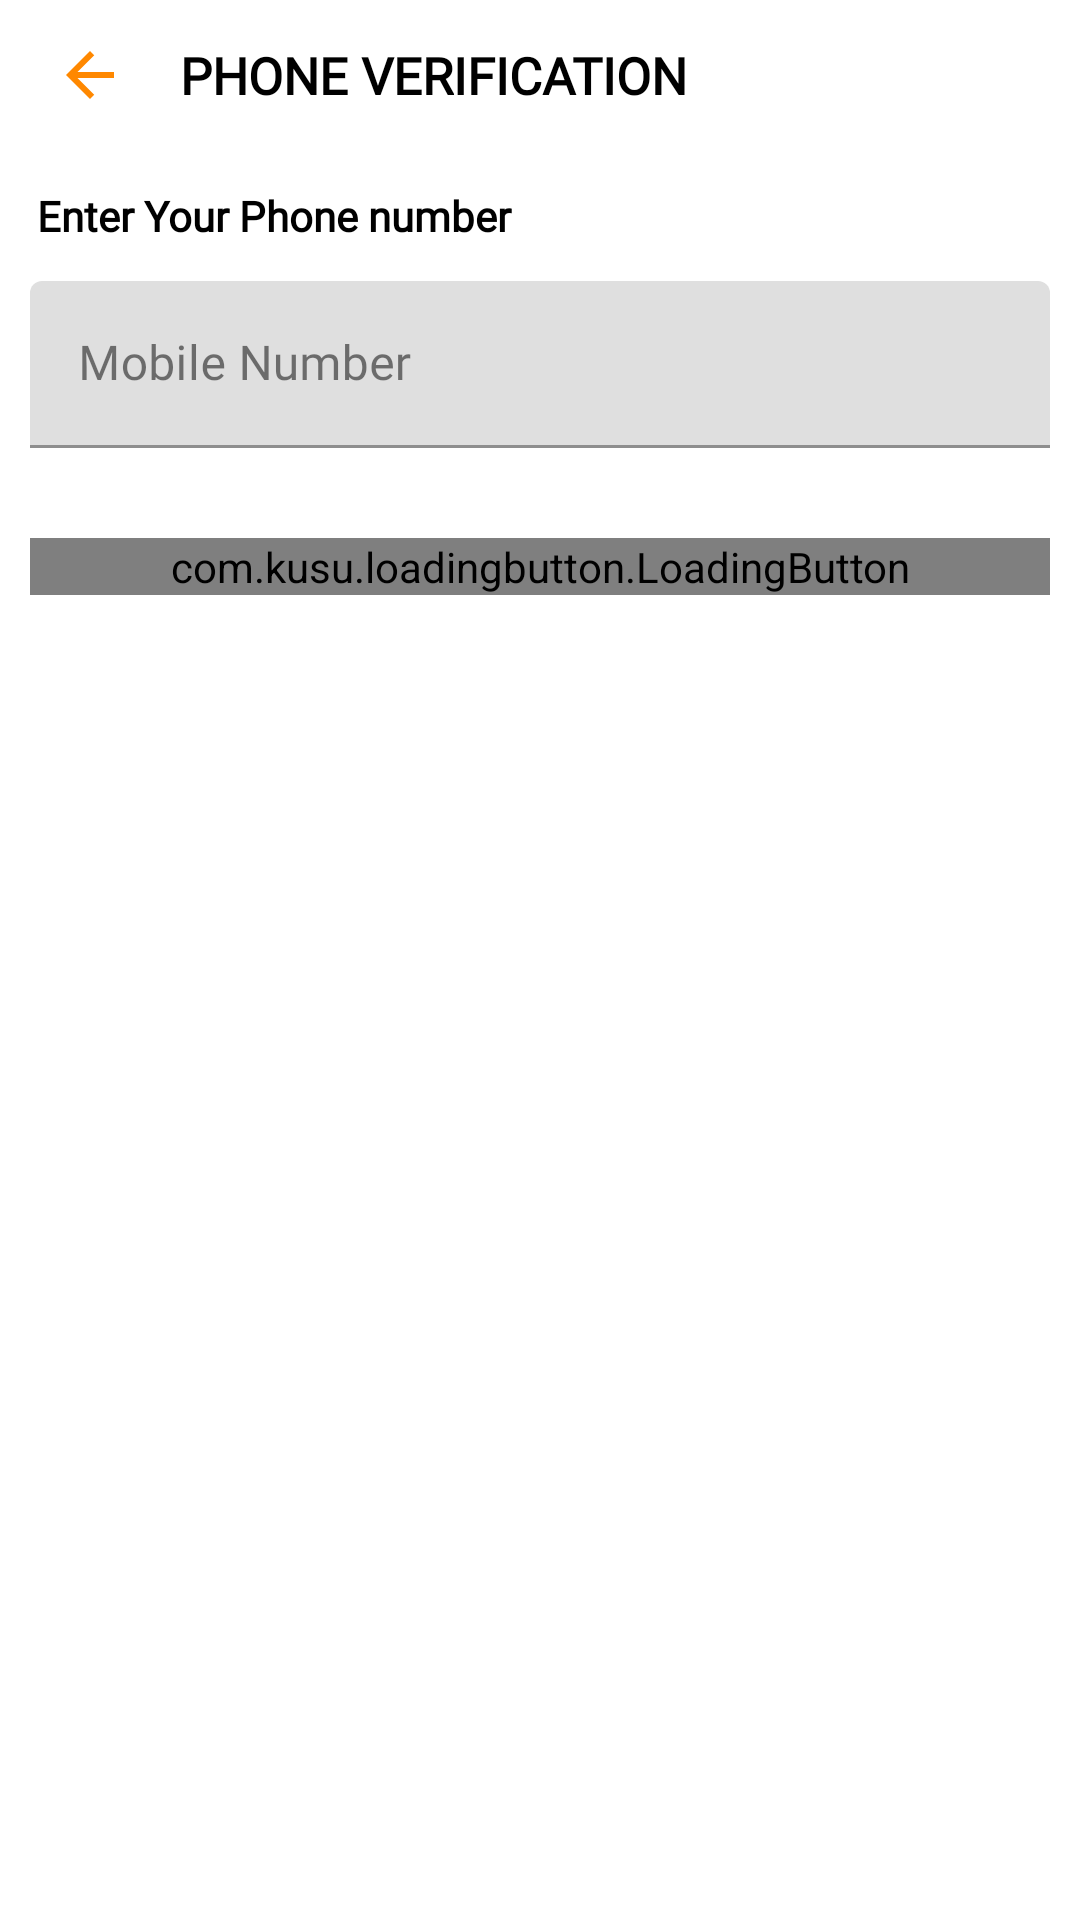

Icons on this 1080 × 1920 Android screen, each with its box as (x1, y1, x2, y2):
arrow back: (66, 51, 114, 99)
